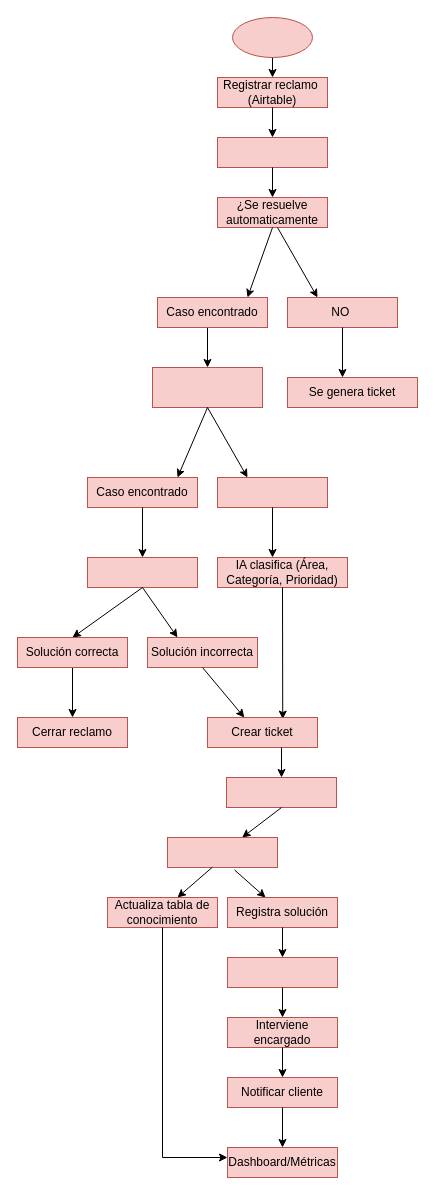
The diagram is 435 pixels wide and 1195 high, and some of its shapes have lost their labels. Each missing label, with the centre of its shape:
"Asignar responsable" belongs at (281,792).
"Buscar solución en base de conocimiento" belongs at (207,387).
"Caso NO encontrado" belongs at (272,492).
"IA Clasifica reclamo" belongs at (272,152).
"IA genera resumen" belongs at (282,972).
"Mostrar solución" belongs at (142,572).
"n8n (trigger)" belongs at (272,37).
"Responsable trabaja" belongs at (222,852).
